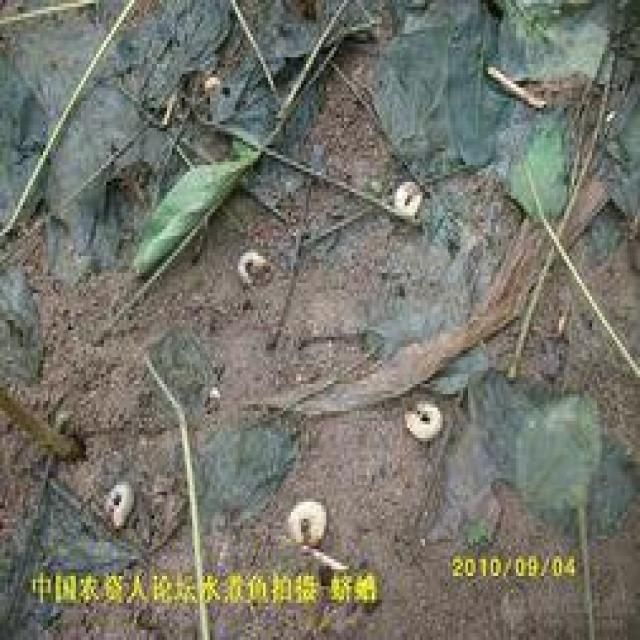Grub-Adult-: (399, 388, 465, 467), (274, 501, 342, 572), (224, 240, 287, 314), (101, 455, 146, 542), (379, 179, 437, 243)
